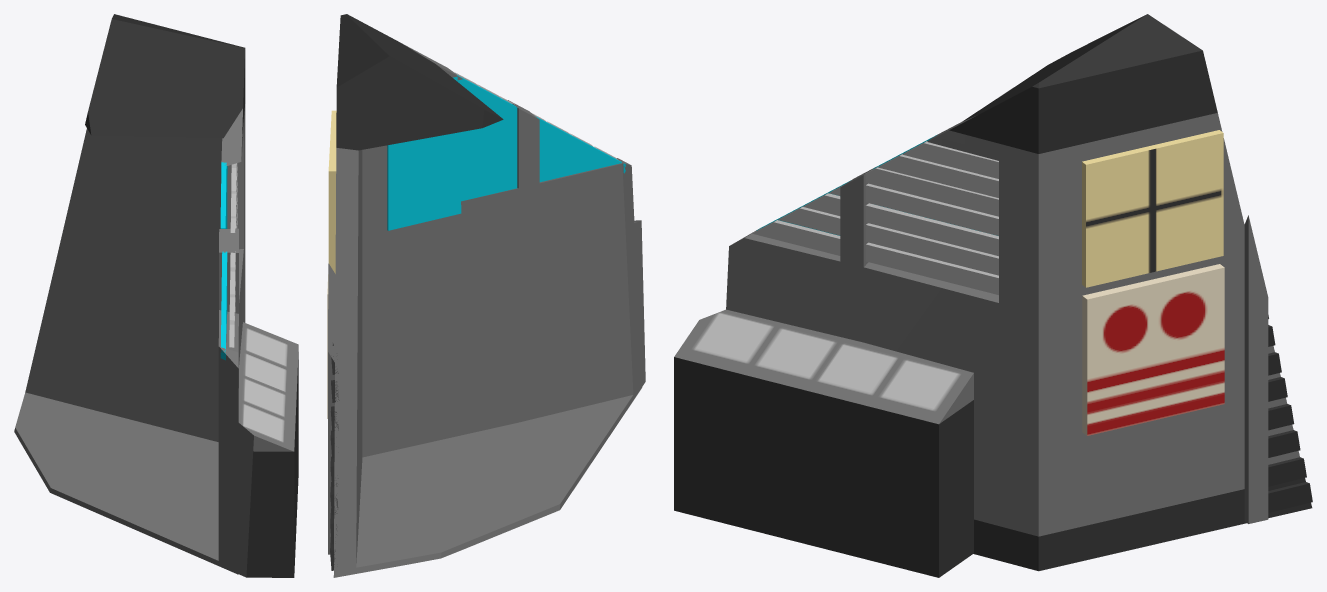
The picture shows the model from 3 angles, left to right: view 1: azimuth 30°, elevation 25°; view 2: azimuth 150°, elevation 25°; view 3: azimuth 270°, elevation 25°; orthographic projection. The views are drawn at different scales.
Parts seen in each view (by area): view 1: Base_8; view 2: Base_8; view 3: Base_8.
Part boxes in pixels (left/top/right/bottom): Base_8: left=14, top=14, right=298, bottom=577; Base_8: left=327, top=14, right=645, bottom=577; Base_8: left=674, top=14, right=1312, bottom=577.
Size of the model in its own units: 636 by 1208 by 1386.
